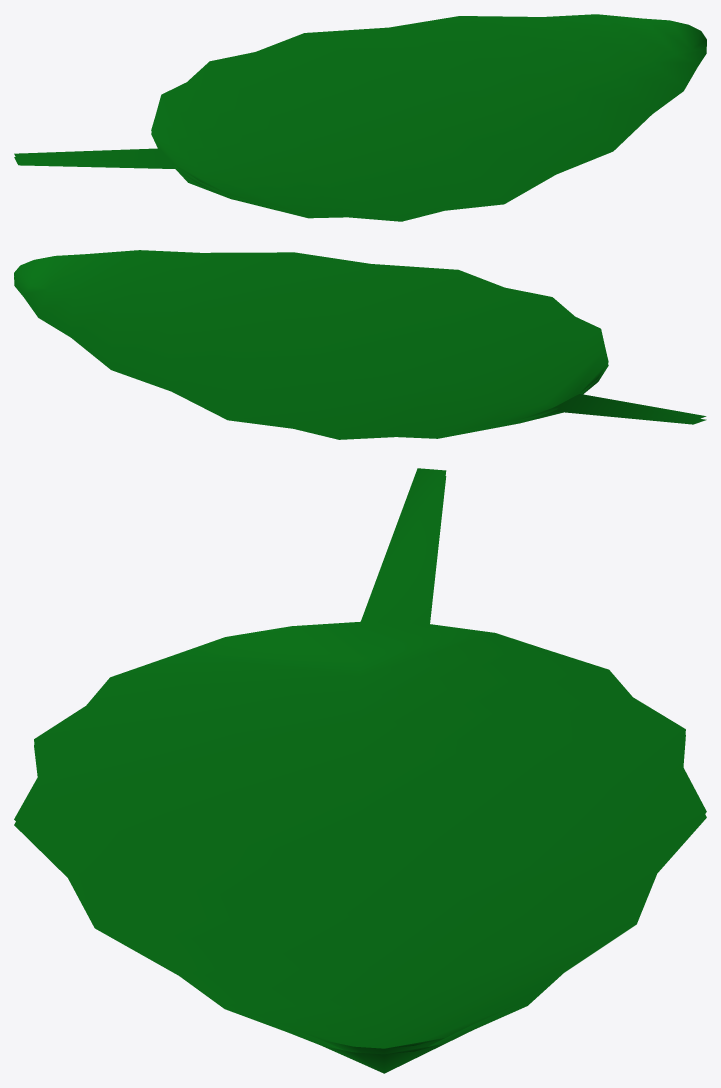
Rendered from leaf (1).fbx.
The picture shows the model from 3 angles, top to bottom: view 1: azimuth 30°, elevation 25°; view 2: azimuth 150°, elevation 25°; view 3: azimuth 270°, elevation 25°; orthographic projection. The views are drawn at different scales.
Parts seen in each view (by area): view 1: Object_4; view 2: Object_4; view 3: Object_4.
Part boxes in pixels (<box>): Object_4: <box>14,14,706,221</box>; Object_4: <box>14,250,706,439</box>; Object_4: <box>14,468,706,1073</box>.
Size of the model in its own units: 180 by 13.11 by 98.13.
